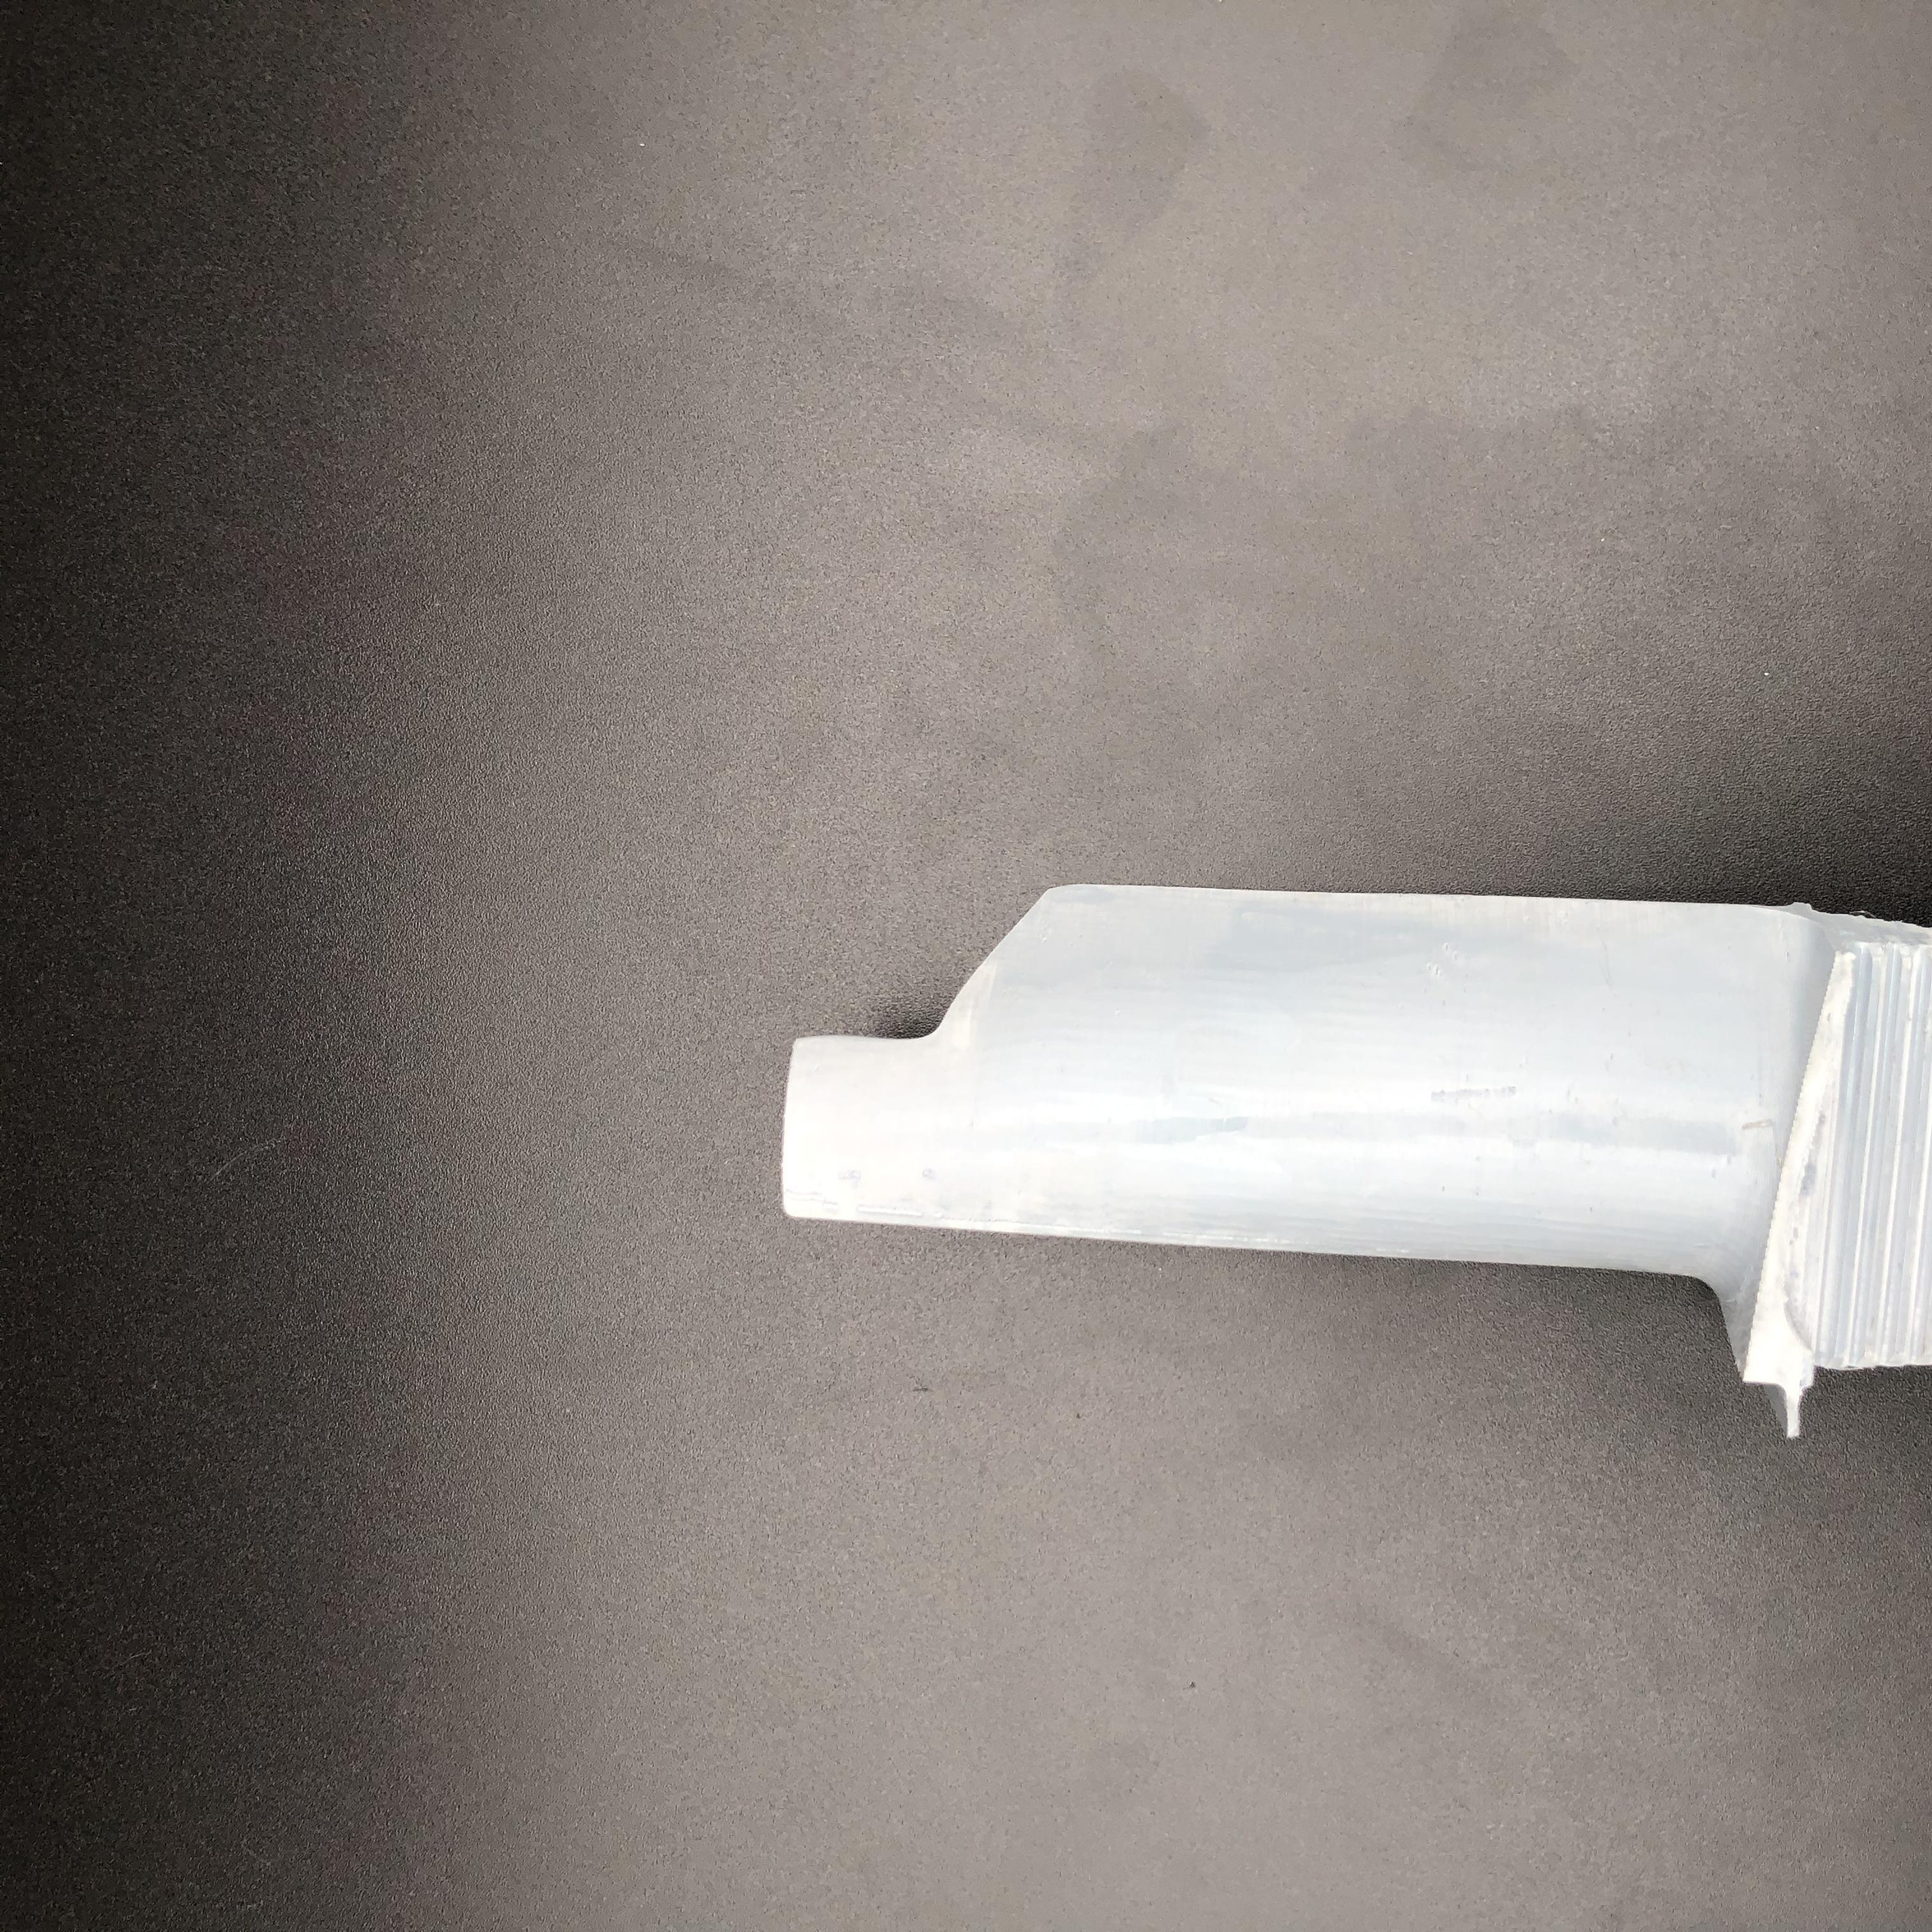fracture: (814, 904, 1090, 1051)
